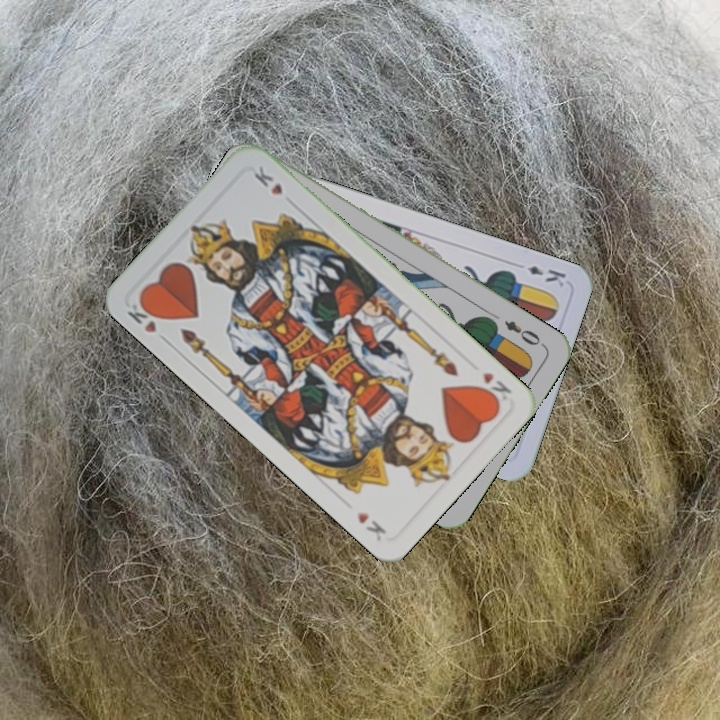EK: (523, 261, 569, 289)
EO: (500, 316, 548, 350)
HK: (123, 295, 172, 346), (474, 368, 514, 408)
